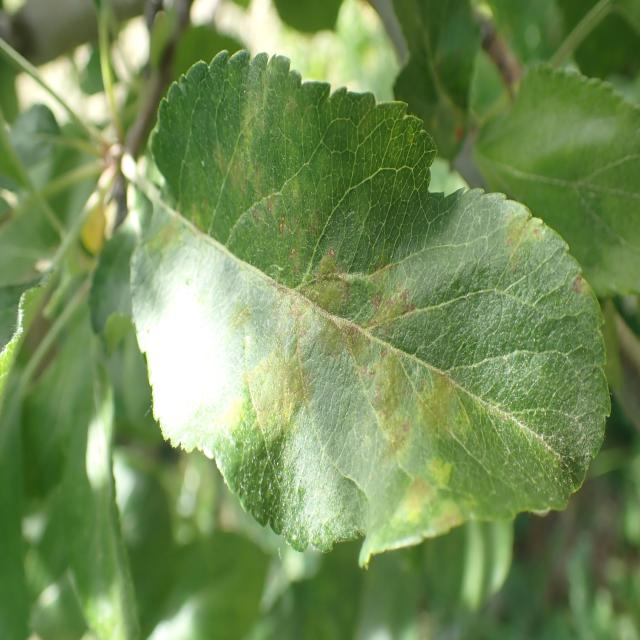scab: (126, 92, 602, 518)
